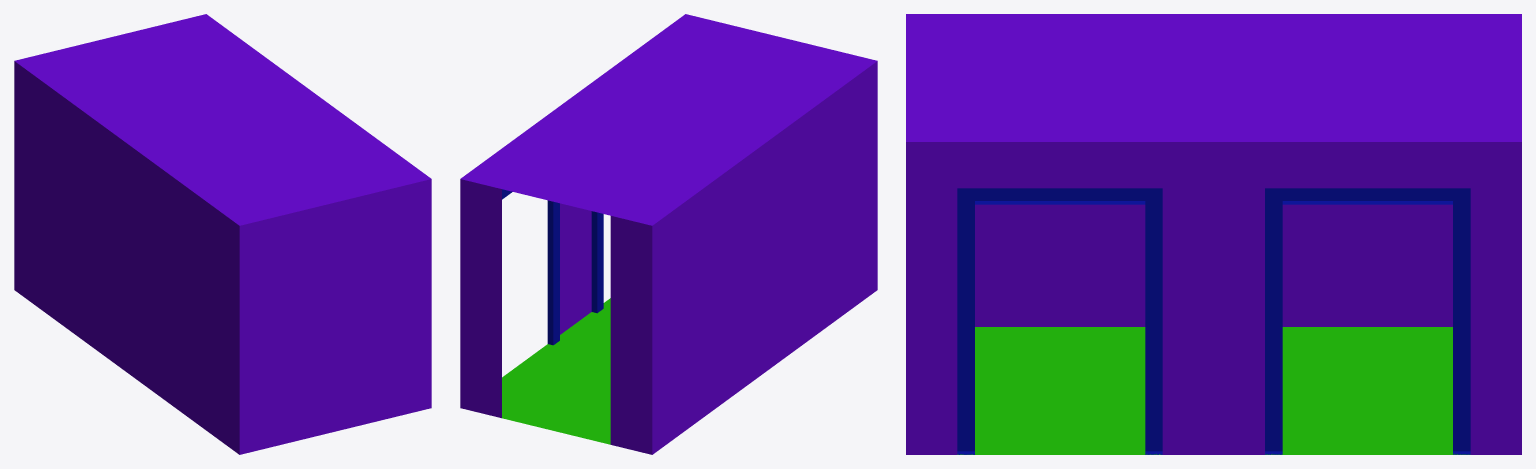
The model's file is house2.fbx.
3 renders of one model, left to right at view 1: azimuth 30°, elevation 25°; view 2: azimuth 150°, elevation 25°; view 3: azimuth 270°, elevation 25°, orthographic. The views are drawn at different scales.
Visible parts, largest first — view 1: Box001; view 2: Box001; view 3: Box001.
Part boxes in pixels (x1,y1,x2,y2): Box001: (14, 14, 431, 454); Box001: (460, 14, 877, 454); Box001: (906, 14, 1521, 454).
Bounding box in the file's own units: 52.43 × 59.74 × 107.
